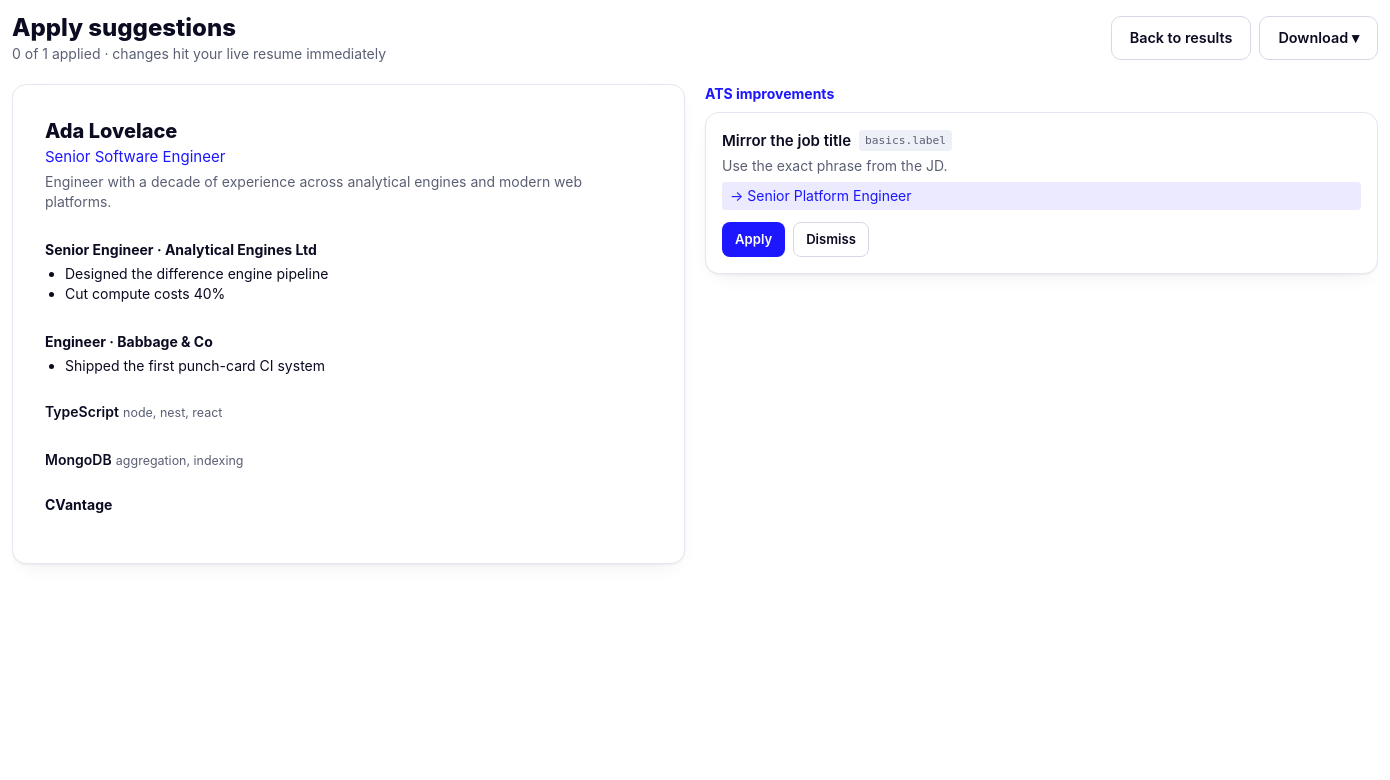
it: apply flow (issue #75 / 8.11) › apply mutates the targeted field in the left pane and flips the card
This screenshot has width=1390, height=780.
Expected: the text "Senior Software Engineer" is shown, left=45, top=147, right=225, bottom=166
Click the button "Apply": (754, 239) left=722, top=222, right=785, bottom=257
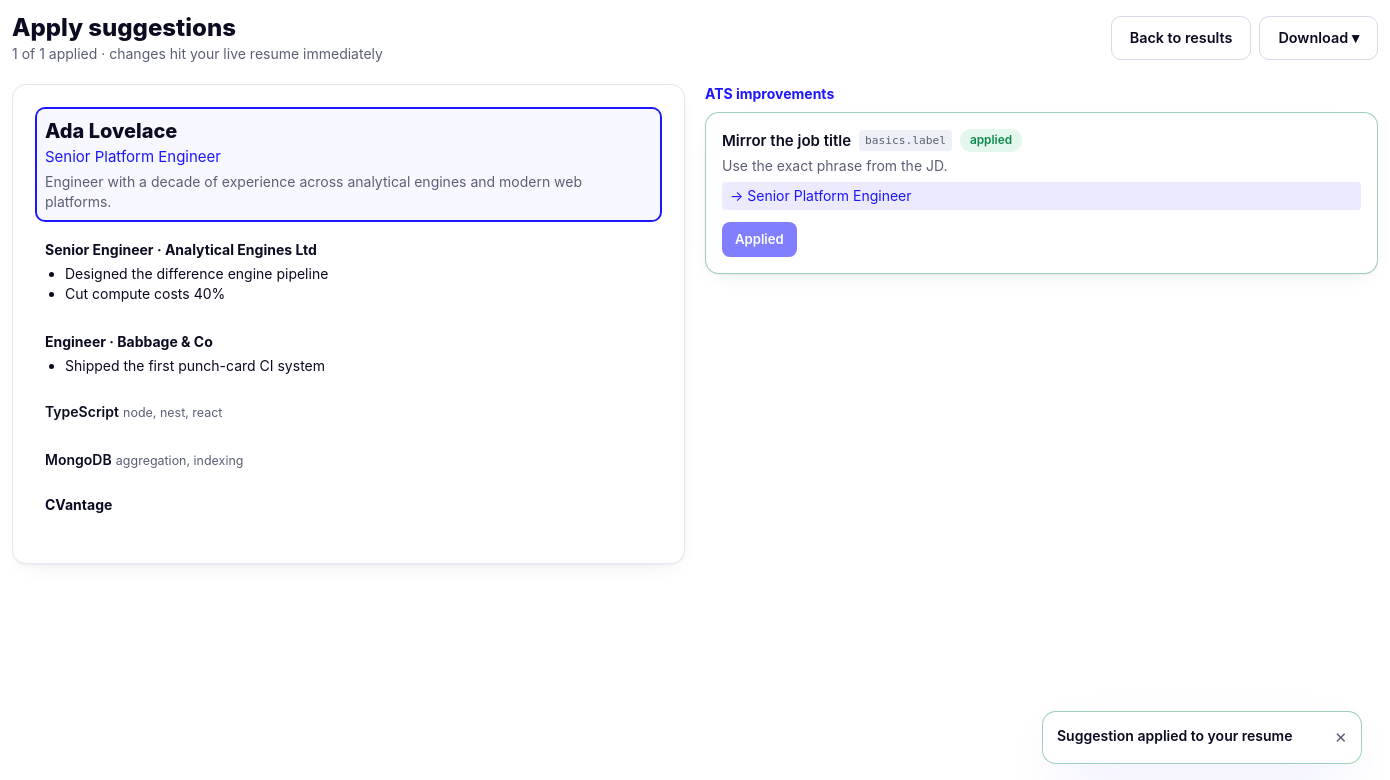
Result: the text "Suggestion applied to your resume" is shown at left=1057, top=726, right=1292, bottom=746
Result: the text "Senior Platform Engineer" is shown at left=45, top=147, right=221, bottom=166
Result: the text "applied" is shown at left=960, top=130, right=1022, bottom=152
